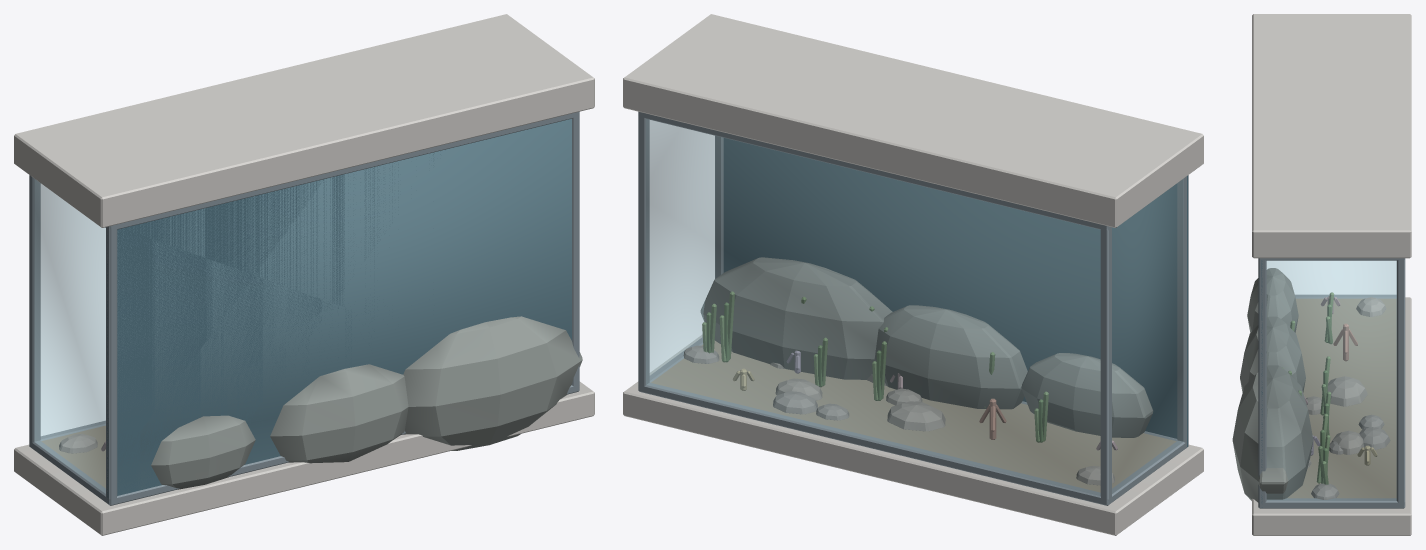
The model's file is furn_aquarium_wall__white.glb.
3 views of the same model, side by side, from view 1: azimuth 30°, elevation 25°; view 2: azimuth 150°, elevation 25°; view 3: azimuth 270°, elevation 25° (orthographic). The views are drawn at different scales.
Size of the model in its own units: 4.2 by 2.85 by 1.46.
